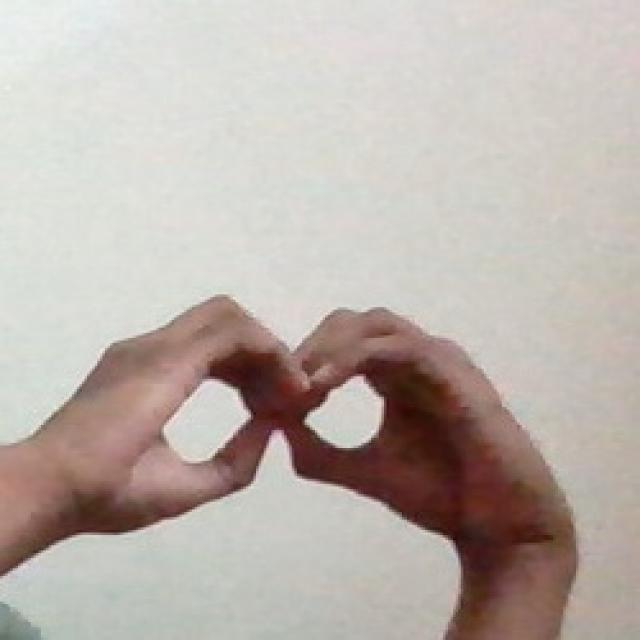Alphabet-B: (47, 293, 582, 567)
